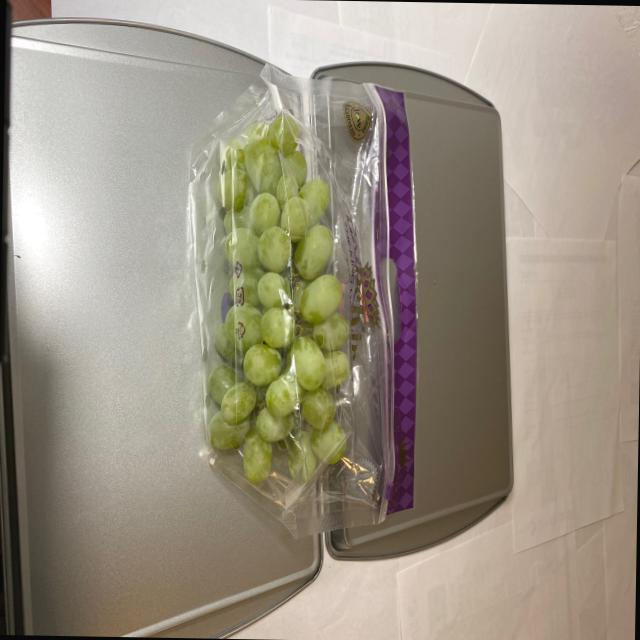grapes: (194, 127, 352, 516)
